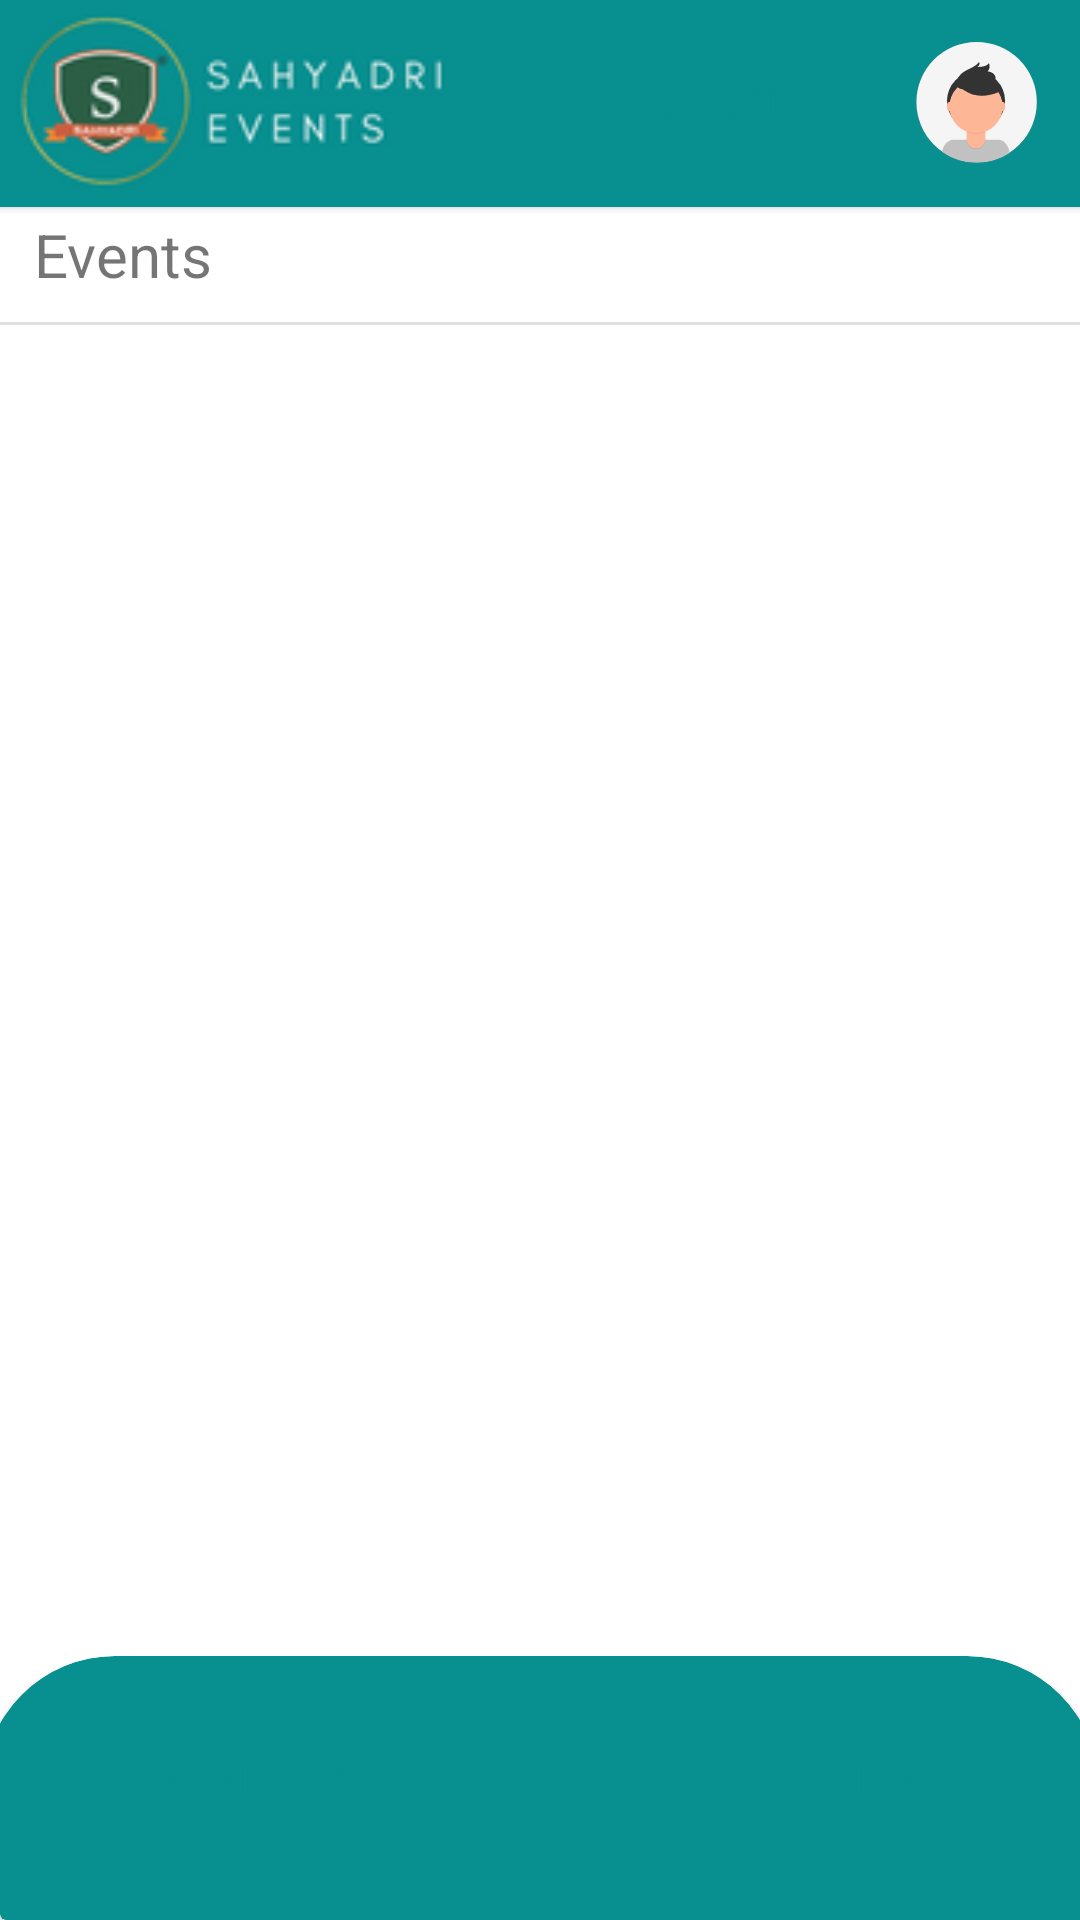

Locate icon controls on the screen. Image size 1080 × 1920, boxes as rect(x1, y1, x2, y2).
undraw profile pic: rect(916, 42, 1037, 163)
